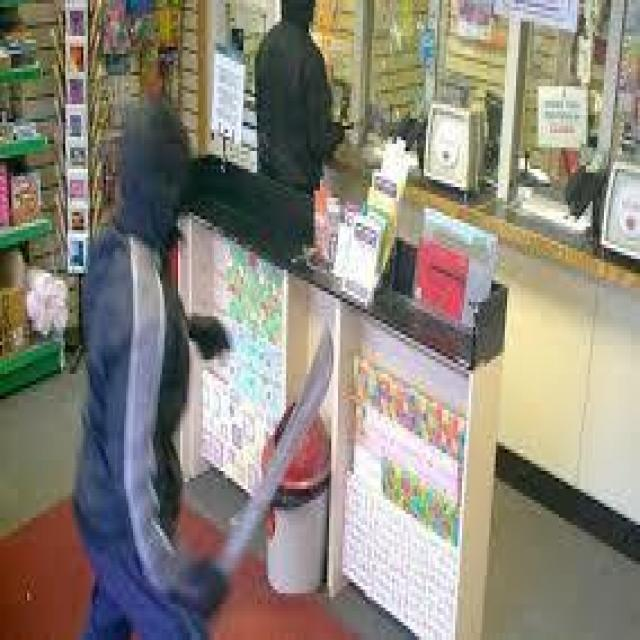weapon: (214, 312, 347, 582)
